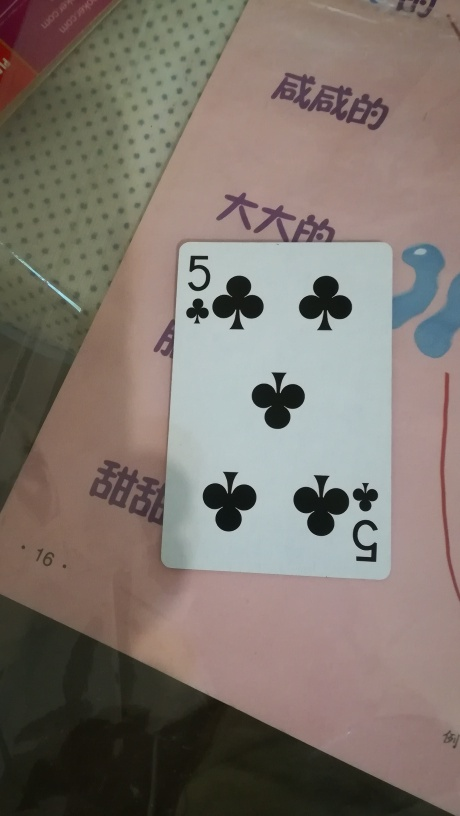mh 5: (162, 239, 391, 582)
